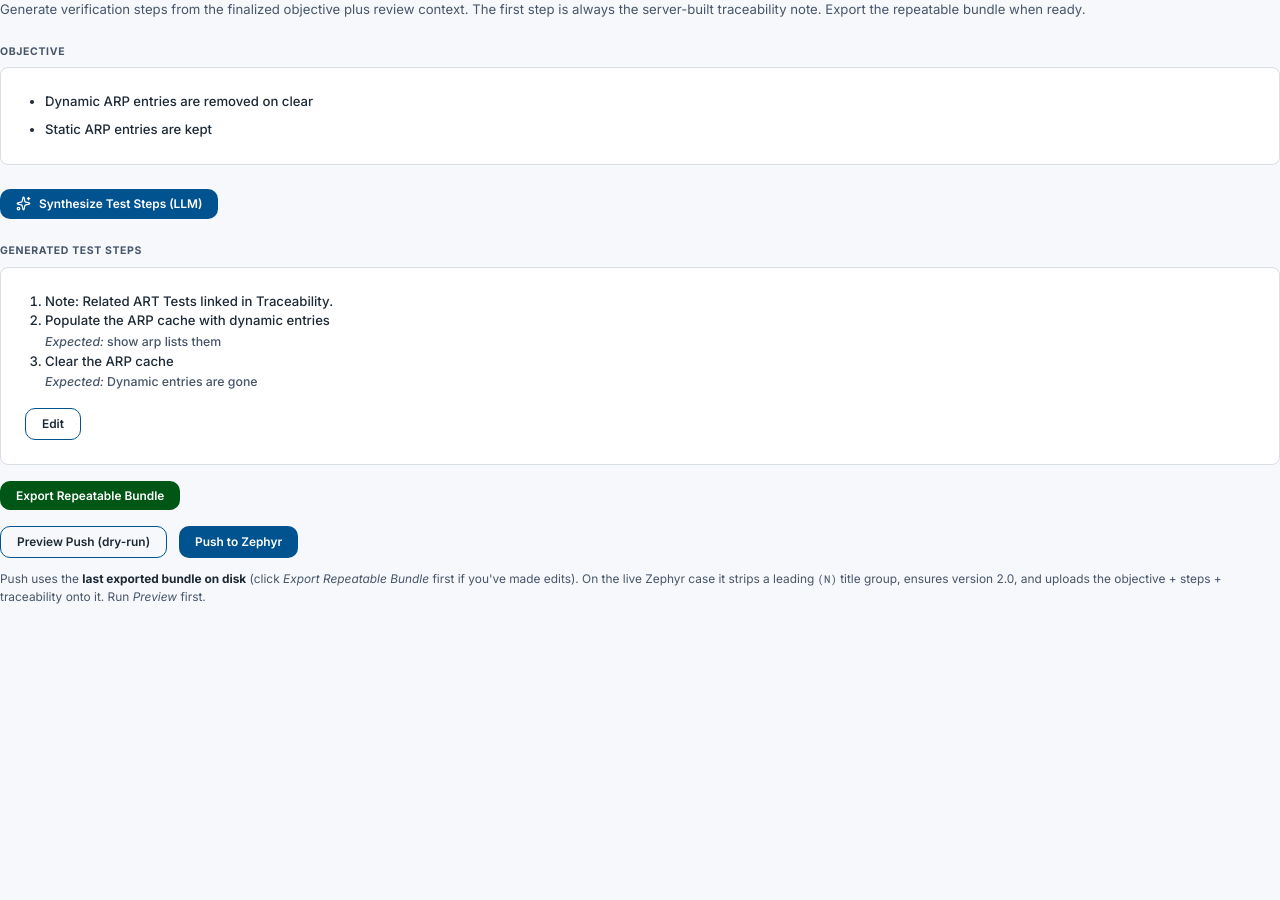
Test: OgTestSteps › export › uses a default headline when a blocked export has no message
Click the button "Export Repeatable Bundle" at (90, 496), box [0,481,180,510]
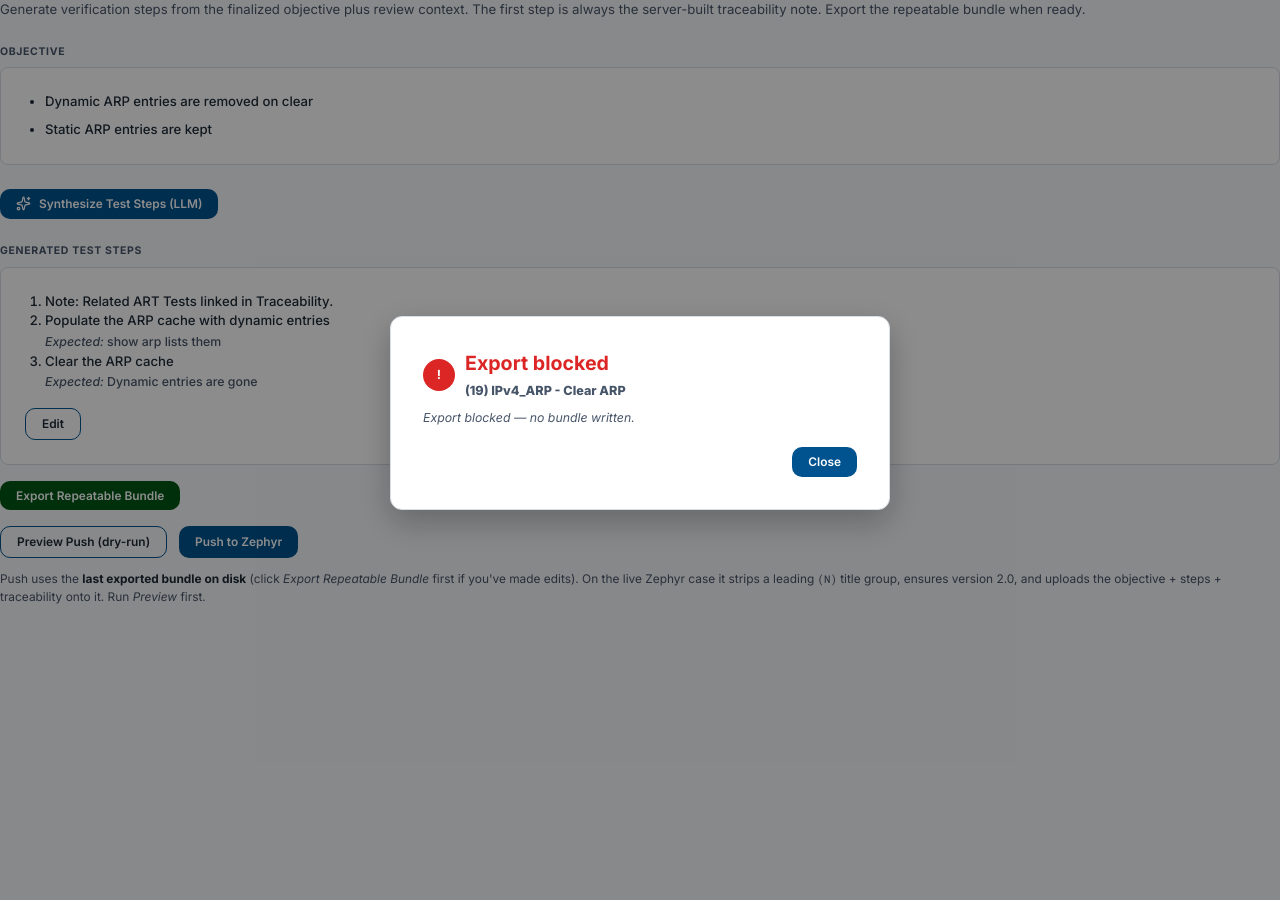
Expected: the text "Export blocked — no bundle written." is shown, [423,410,635,425]
